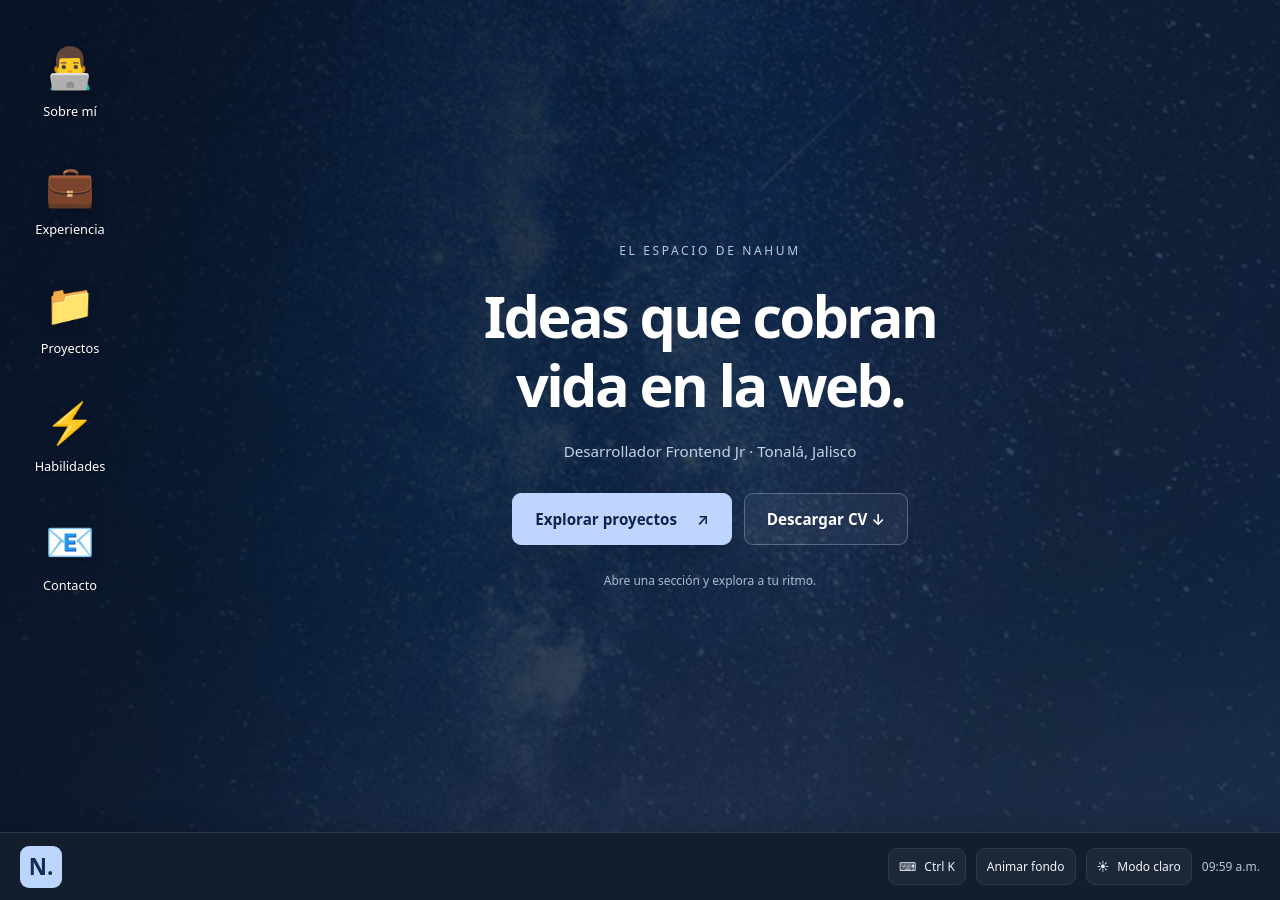
Test case: Desktop window interactions › restores a minimized window from its desktop icon without creating a duplicate
Click the button "📁 Proyectos". click: (70, 318)
box: x1=20 y1=265 x2=120 y2=371
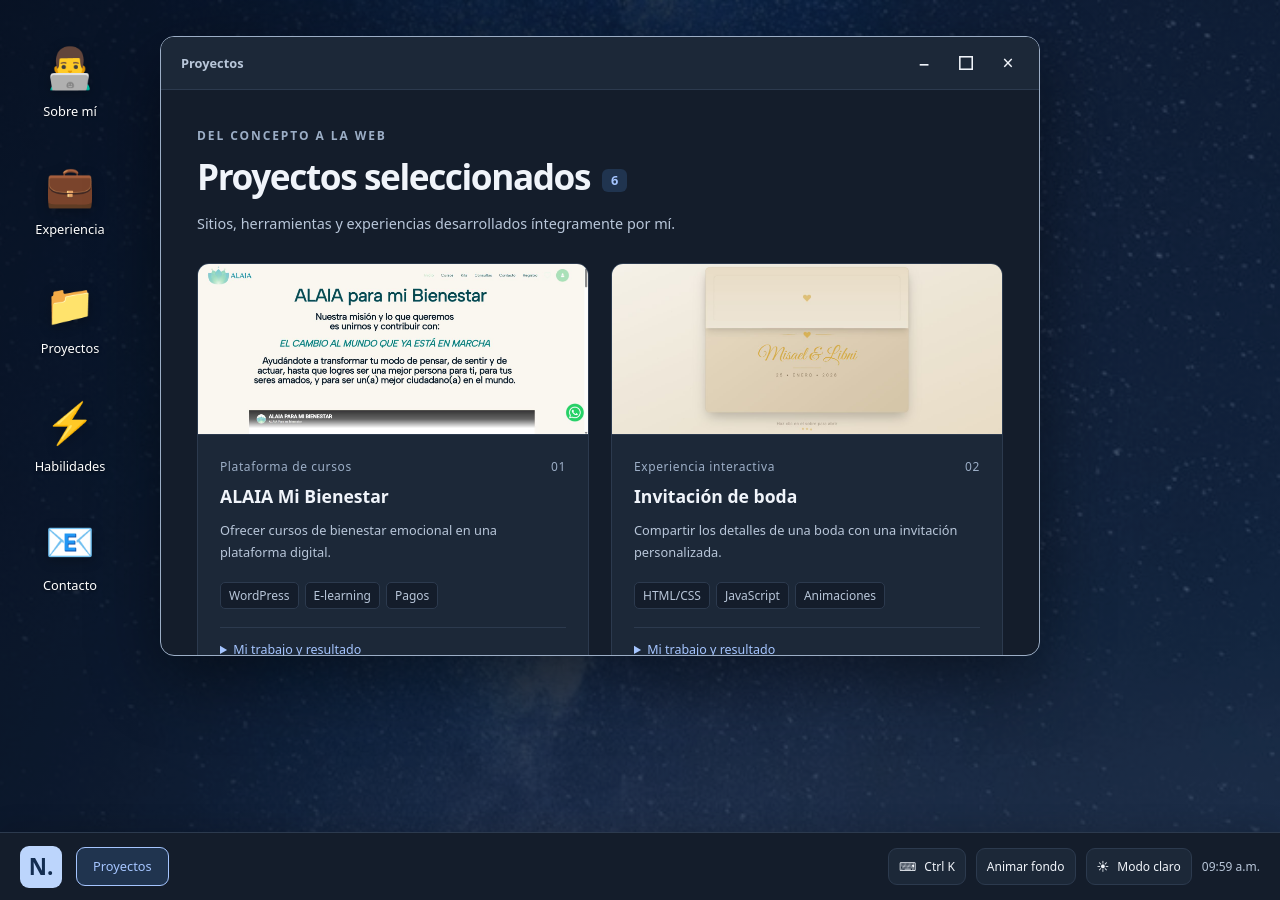
Click the button named "Minimizar Proyectos". click: (924, 63)
box: x1=905 y1=45 x2=943 y2=81
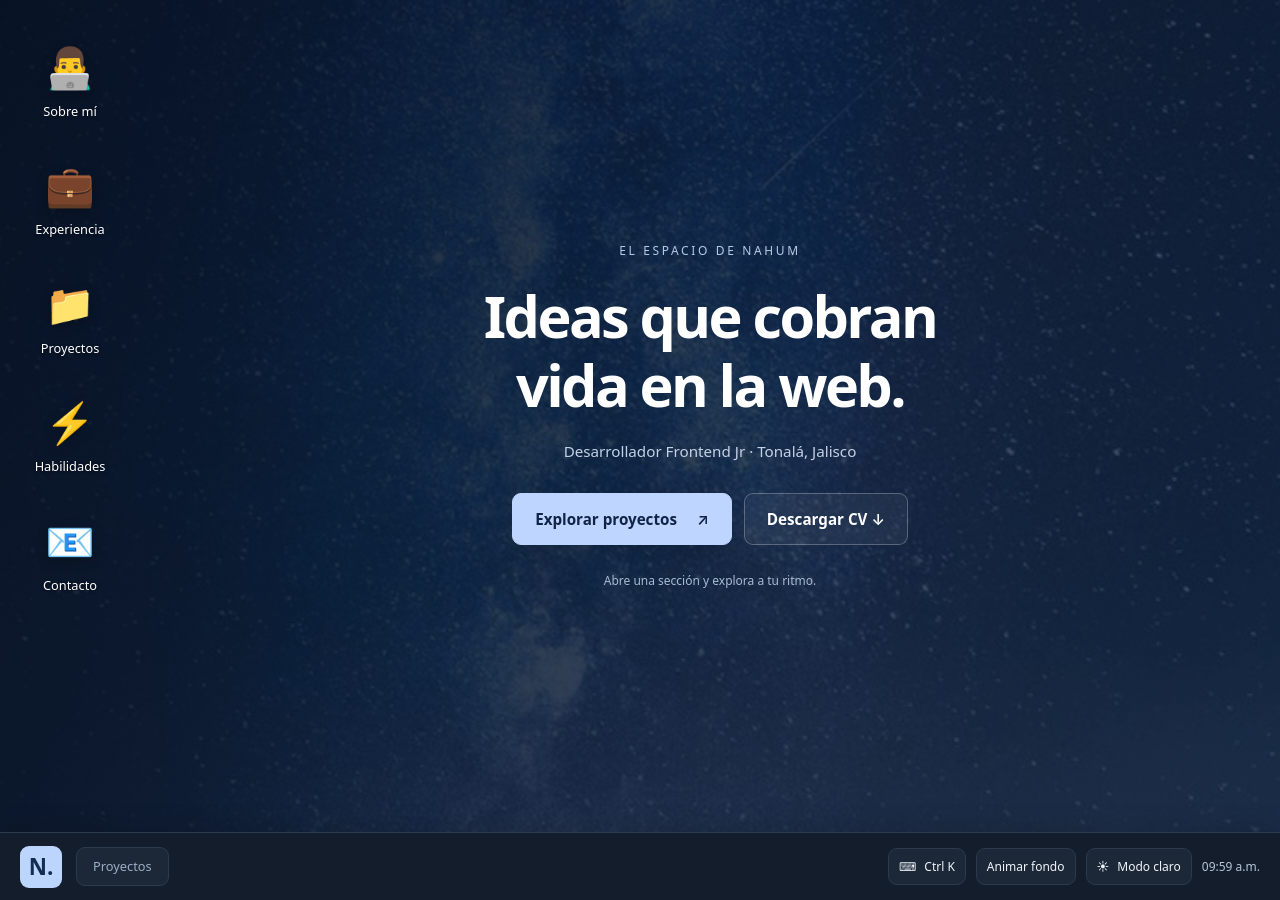
Click the button "📁 Proyectos". click: (70, 318)
box: x1=20 y1=265 x2=120 y2=371
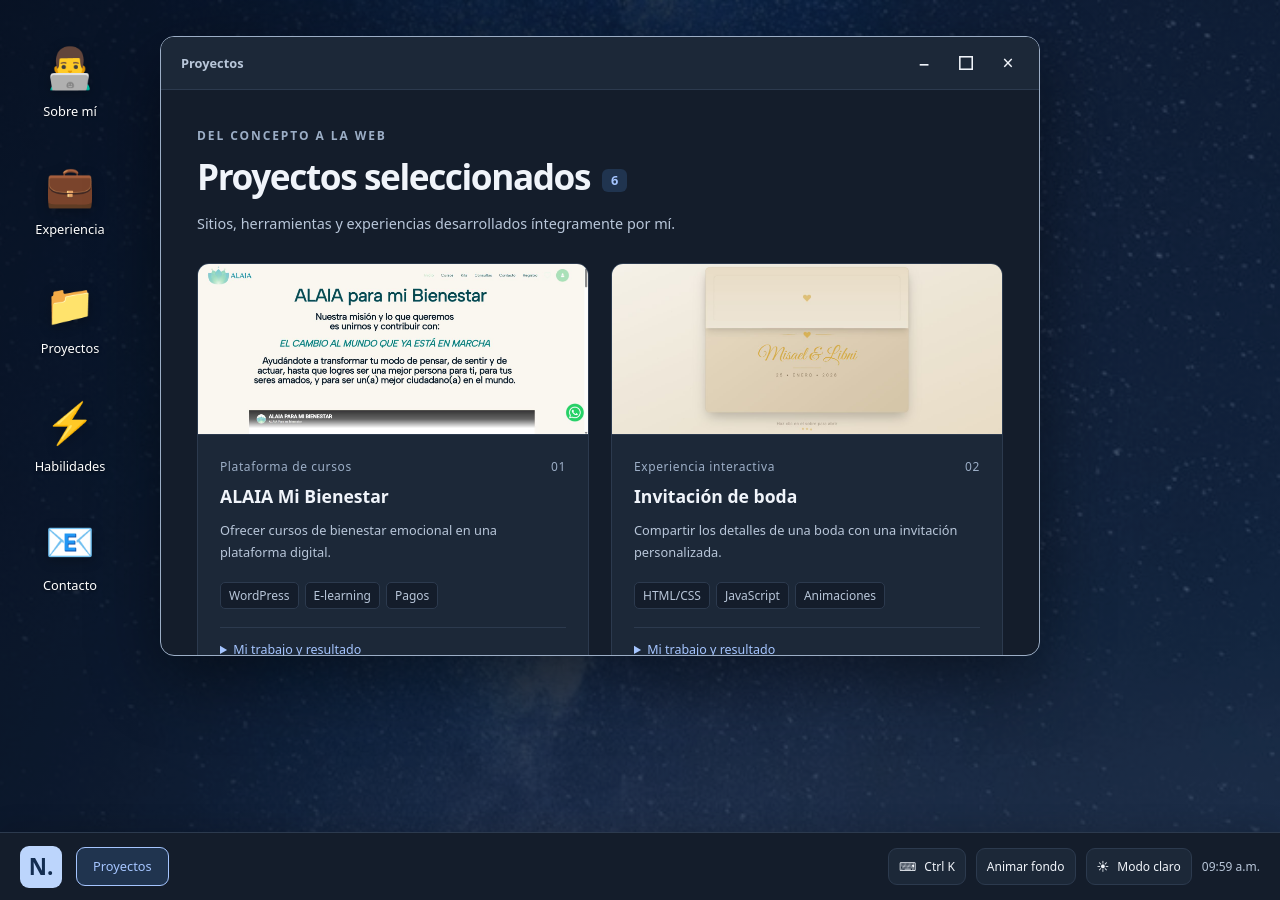
Expected: the number of elements "Proyectos" is 1, x1=160 y1=36 x2=1040 y2=656
